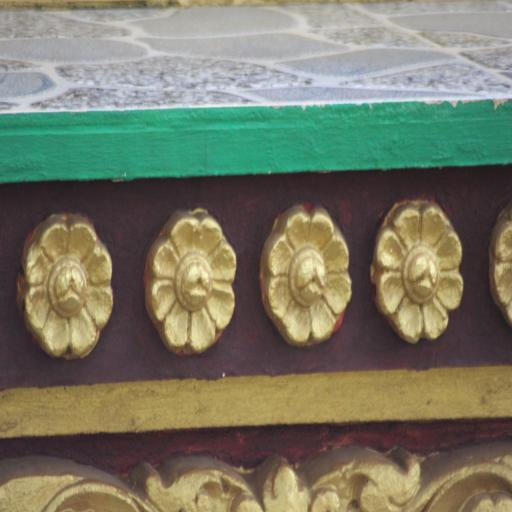hoa: (22, 213, 116, 359), (261, 199, 353, 348), (146, 206, 237, 351), (375, 194, 462, 341)
